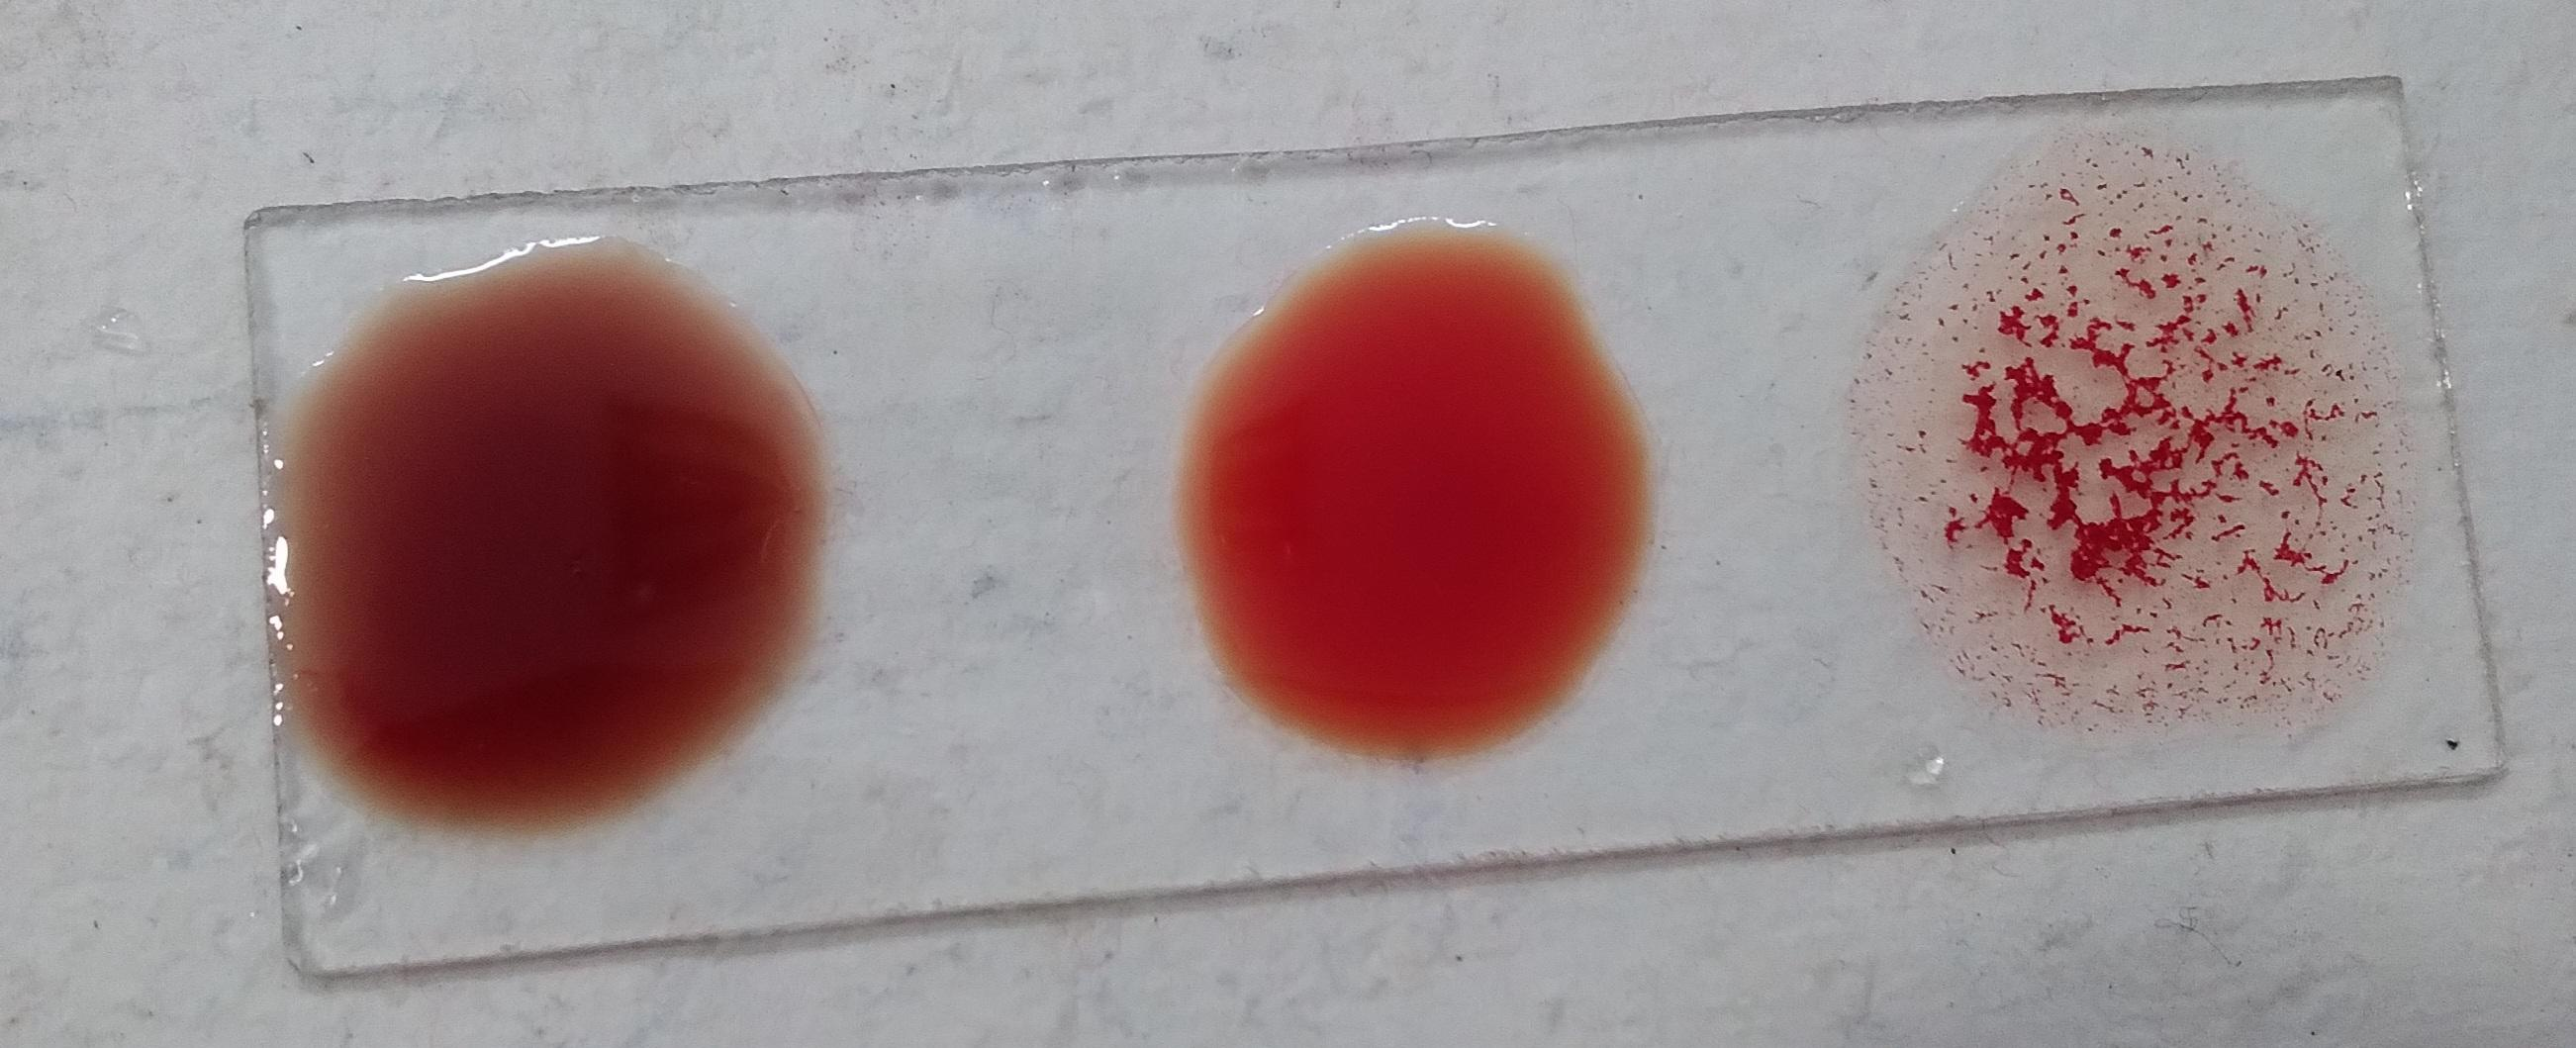D: (1883, 126, 2392, 723)
